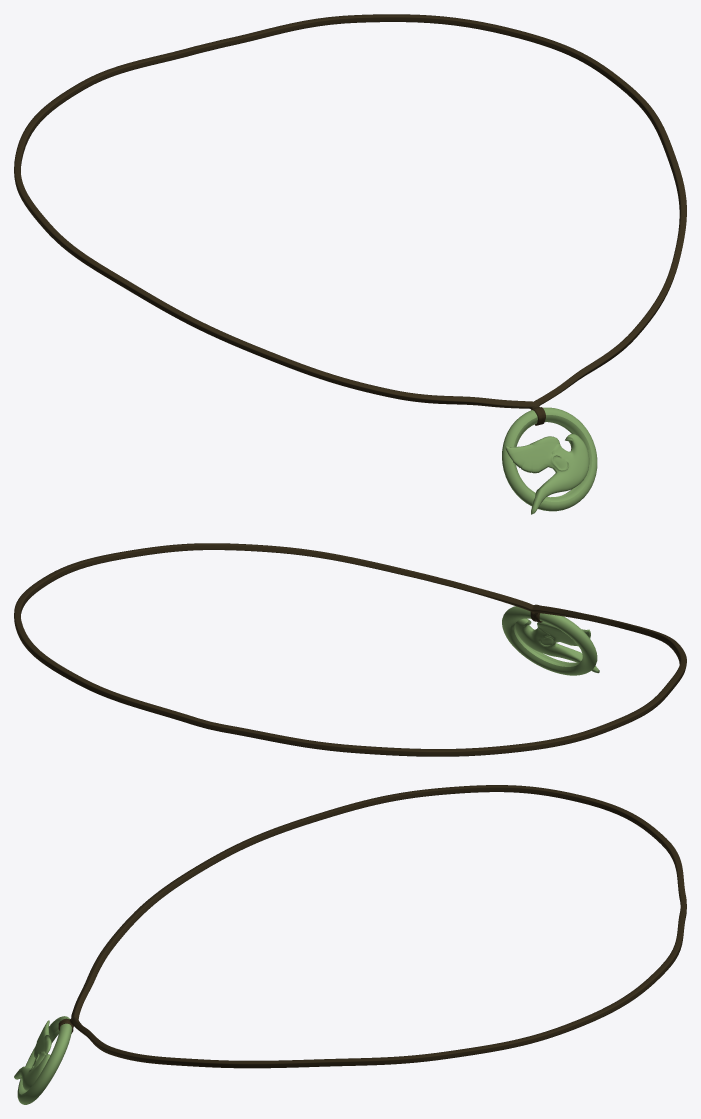
Rendered from pendant-necklace.glb.
3 views of the same model, one above another, from view 1: azimuth 30°, elevation 25°; view 2: azimuth 150°, elevation 25°; view 3: azimuth 270°, elevation 25° (orthographic). The views are drawn at different scales.
Visible parts, largest first — view 1: pendant; view 2: pendant; view 3: pendant.
Boxes of the visible parts, bbox=[...] form: pendant: bbox=[14, 14, 686, 514]; pendant: bbox=[14, 543, 686, 756]; pendant: bbox=[14, 785, 686, 1104].
Size of the model in its own units: 20.31 by 6.99 by 21.58.
